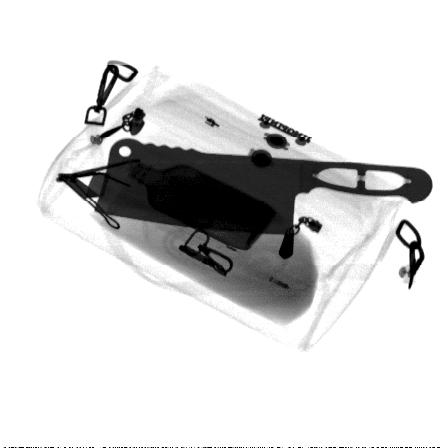Knife: (92, 138, 435, 236)
